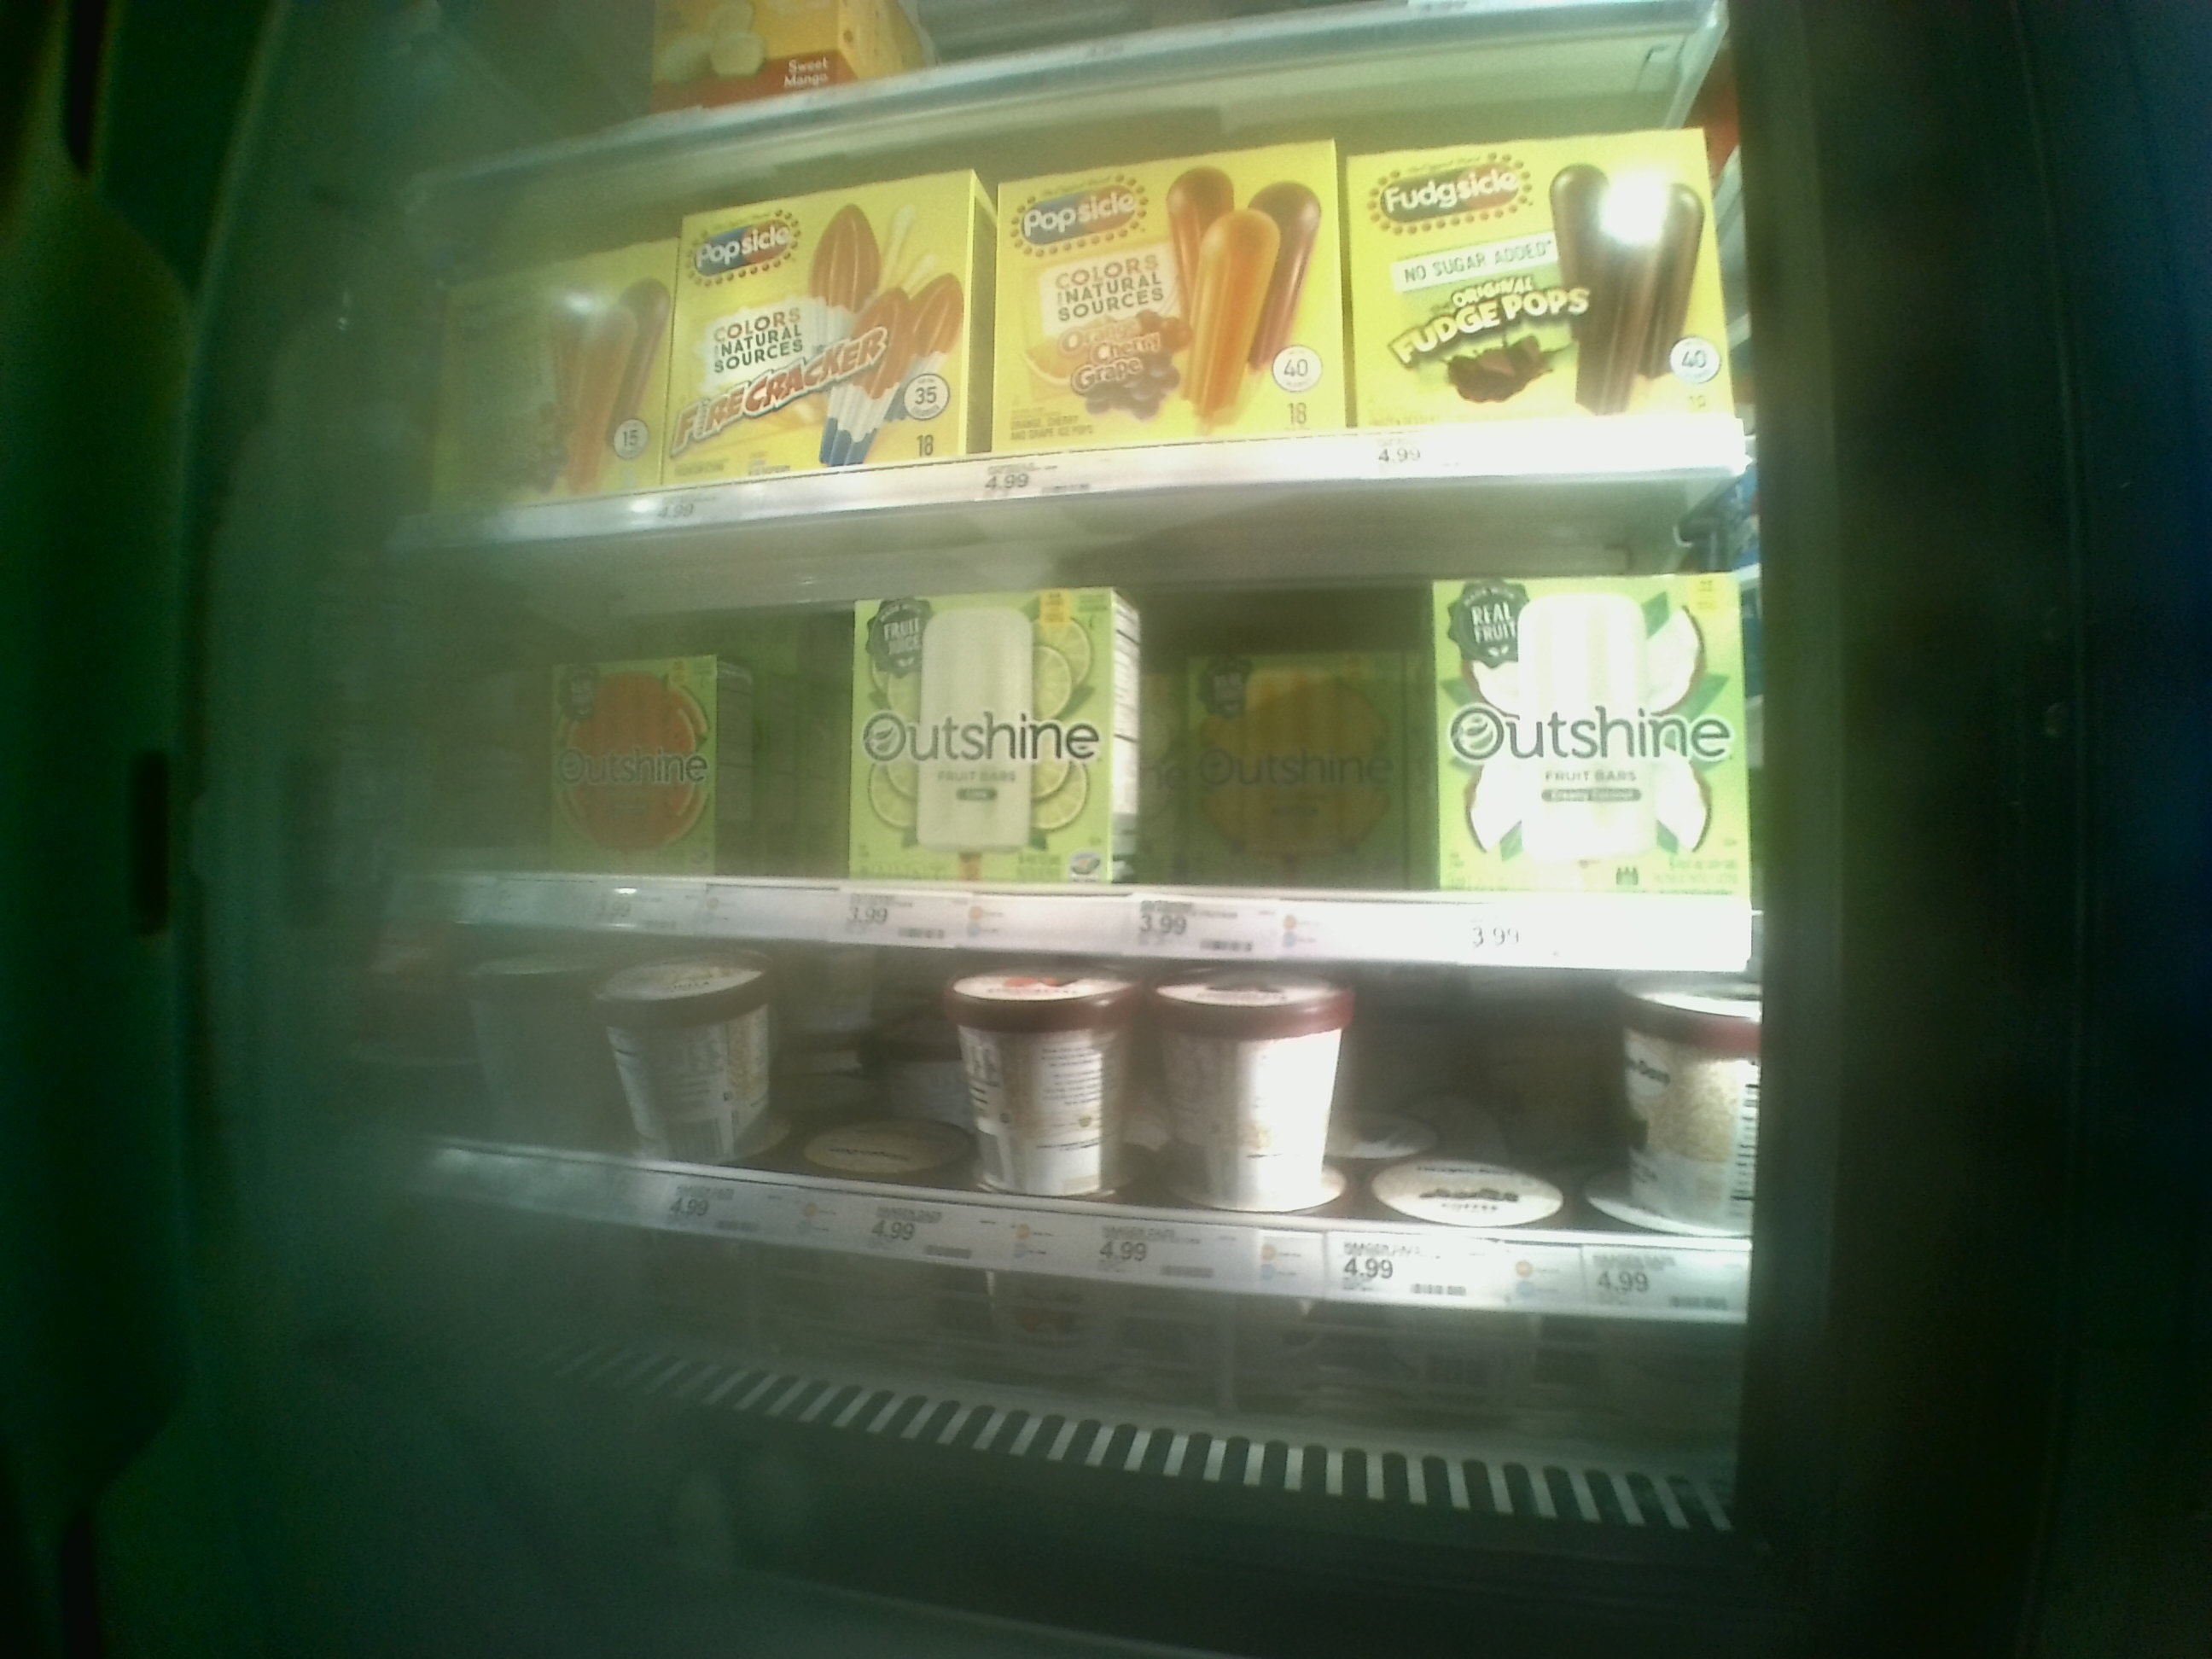ice-cream-shelf: (415, 538, 1771, 955)
